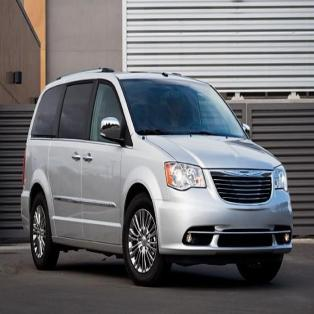Auto: (20, 64, 295, 289)
